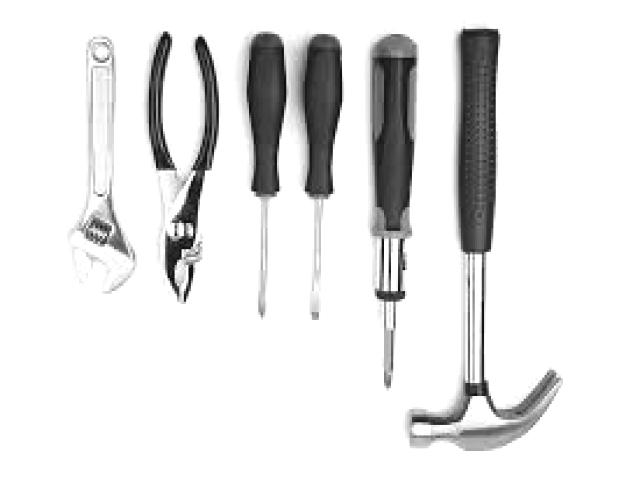Adjustable spanner: (71, 34, 138, 295)
Cutting pliers: (149, 33, 219, 304)
Hammer: (413, 31, 562, 448)
Screwdriver: (372, 36, 418, 390), (248, 34, 286, 318), (305, 36, 342, 321)
